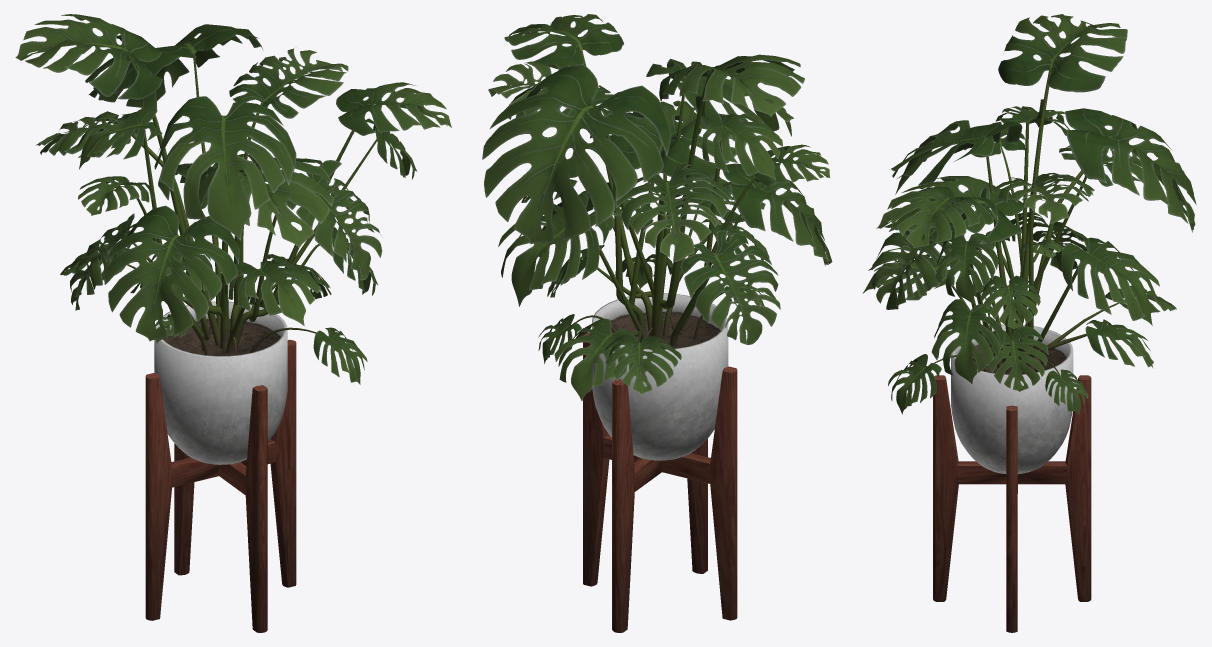
The model's file is plant_monstera.glb.
The picture shows the model from 3 angles, left to right: view 1: azimuth 30°, elevation 25°; view 2: azimuth 150°, elevation 25°; view 3: azimuth 270°, elevation 25°; orthographic projection. The views are drawn at different scales.
Parts seen in each view (by area): view 1: Leaves_Mat.1_0, Stand_Mat_0, root_HP_1_Mat.2_0; view 2: Leaves_Mat.1_0, Stand_Mat_0, root_HP_1_Mat.2_0; view 3: Leaves_Mat.1_0, Stand_Mat_0, root_HP_1_Mat.2_0.
Boxes of the visible parts, <box> form: Leaves_Mat.1_0: <box>15,14,451,384</box>; Stand_Mat_0: <box>145,301,296,632</box>; root_HP_1_Mat.2_0: <box>124,53,376,355</box>; Leaves_Mat.1_0: <box>482,14,832,400</box>; Stand_Mat_0: <box>583,293,737,632</box>; root_HP_1_Mat.2_0: <box>559,50,755,346</box>; Leaves_Mat.1_0: <box>862,14,1196,414</box>; Stand_Mat_0: <box>933,324,1091,632</box>; root_HP_1_Mat.2_0: <box>933,68,1124,375</box>.
Size of the model in its own units: 0.8695 by 1.36 by 0.7911.
3 materials, 3 textured.
